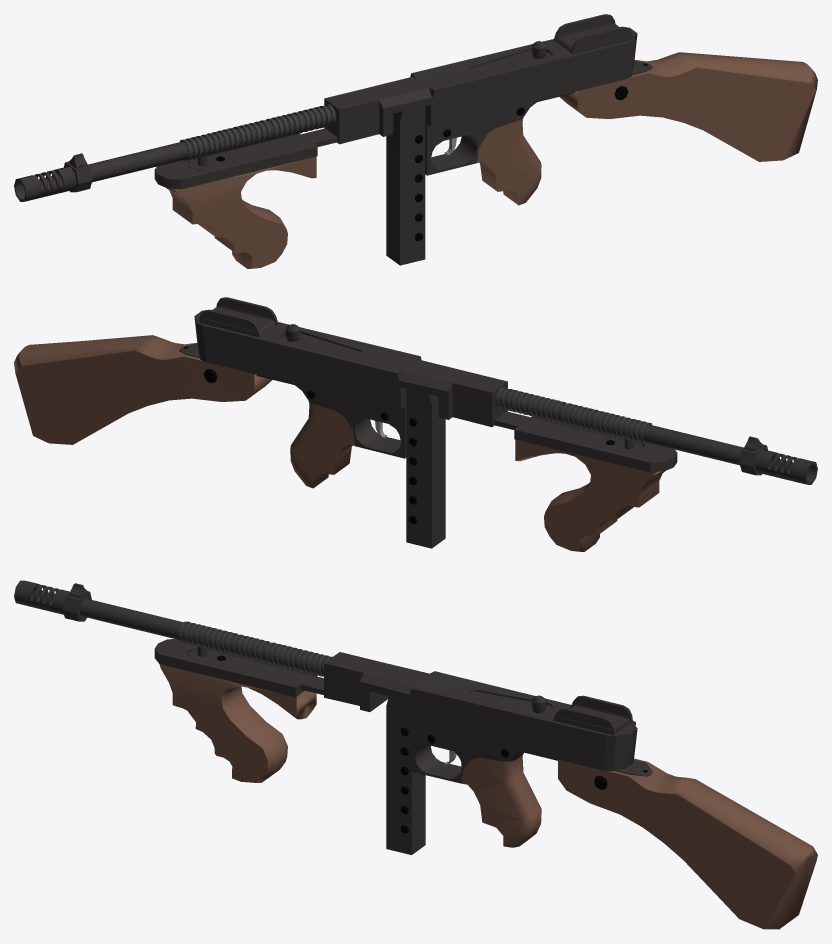
The model's file is thompson.fbx.
The picture shows the model from 3 angles, top to bottom: view 1: azimuth 30°, elevation 25°; view 2: azimuth 150°, elevation 25°; view 3: azimuth 330°, elevation 25°; orthographic projection.
Parts seen in each view (by area): view 1: polySurface6, pCube14, polySurface12, pCube22, polySurface26, polySurface28, pCylinder1, pCube9, pCylinder55, pCube19, pCube29, pCube6 (+4 smaller); view 2: polySurface6, pCube14, polySurface12, pCube22, polySurface26, polySurface28, pCylinder1, pCube9, pCylinder55, pCube19, pCube29, pCube6 (+4 smaller); view 3: polySurface6, pCube14, polySurface12, pCube22, polySurface26, polySurface28, pCylinder1, pCube9, pCylinder55, pCube29, pCube19, pCube6 (+4 smaller).
Boxes of the visible parts, bbox=[...] form: polySurface6: bbox=[559, 52, 817, 161]; pCube14: bbox=[410, 27, 637, 126]; polySurface12: bbox=[166, 156, 316, 268]; pCube22: bbox=[386, 106, 425, 265]; polySurface26: bbox=[477, 118, 541, 205]; polySurface28: bbox=[425, 60, 652, 175]; pCylinder1: bbox=[88, 106, 336, 182]; pCube9: bbox=[154, 133, 317, 189]; pCylinder55: bbox=[180, 104, 335, 160]; pCube19: bbox=[324, 89, 379, 144]; pCube29: bbox=[364, 76, 432, 136]; pCube6: bbox=[188, 128, 337, 170]; polySurface6: bbox=[14, 335, 272, 444]; pCube14: bbox=[194, 309, 421, 409]; polySurface12: bbox=[515, 439, 665, 551]; pCube22: bbox=[406, 389, 445, 548]; polySurface26: bbox=[290, 401, 354, 488]; polySurface28: bbox=[179, 343, 406, 458]; pCylinder1: bbox=[495, 389, 743, 465]; pCube9: bbox=[514, 416, 677, 472]; pCylinder55: bbox=[496, 387, 651, 443]; pCube19: bbox=[452, 372, 507, 426]; pCube29: bbox=[399, 359, 467, 419]; pCube6: bbox=[494, 411, 643, 453]; polySurface6: bbox=[558, 758, 817, 929]; pCube14: bbox=[408, 671, 637, 771]; polySurface12: bbox=[159, 664, 316, 782]; pCube22: bbox=[386, 684, 425, 854]; polySurface26: bbox=[461, 755, 541, 847]; polySurface28: bbox=[411, 724, 652, 783]; pCylinder1: bbox=[80, 599, 326, 674]; pCube9: bbox=[154, 639, 317, 697]; pCylinder55: bbox=[178, 621, 331, 676]; pCube29: bbox=[360, 661, 428, 711]; pCube19: bbox=[324, 652, 378, 705]; pCube6: bbox=[188, 649, 323, 694].
Bounding box in the file's own units: 84.88 × 19.04 × 4.37.
